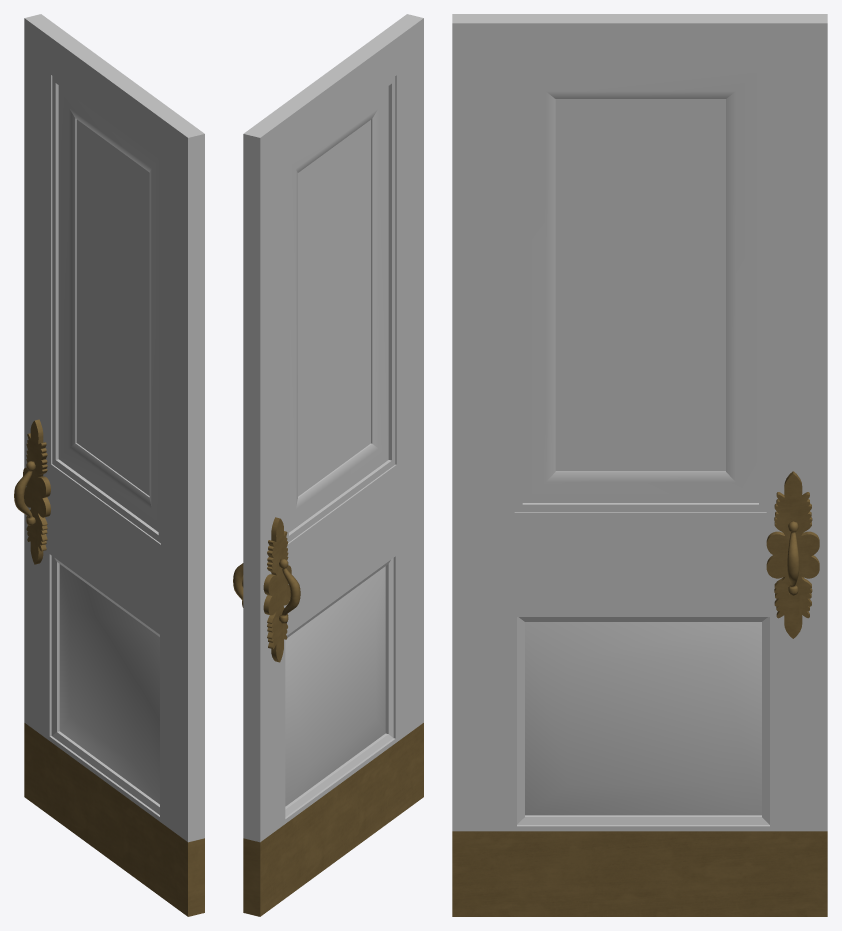
Rendered from SM_WD50_DOOR_2.fbx.
3 renders of one model, left to right at view 1: azimuth 30°, elevation 25°; view 2: azimuth 150°, elevation 25°; view 3: azimuth 270°, elevation 25°, orthographic. The views are drawn at different scales.
Parts seen in each view (by area): view 1: SM_WD50_DOOR_2; view 2: SM_WD50_DOOR_2; view 3: SM_WD50_DOOR_2.
Part boxes in pixels (left/top/right/bottom): SM_WD50_DOOR_2: left=14, top=14, right=204, bottom=916; SM_WD50_DOOR_2: left=233, top=14, right=423, bottom=916; SM_WD50_DOOR_2: left=452, top=14, right=827, bottom=916.
Bounding box in the file's own units: 19.97 × 86.44 × 227.
